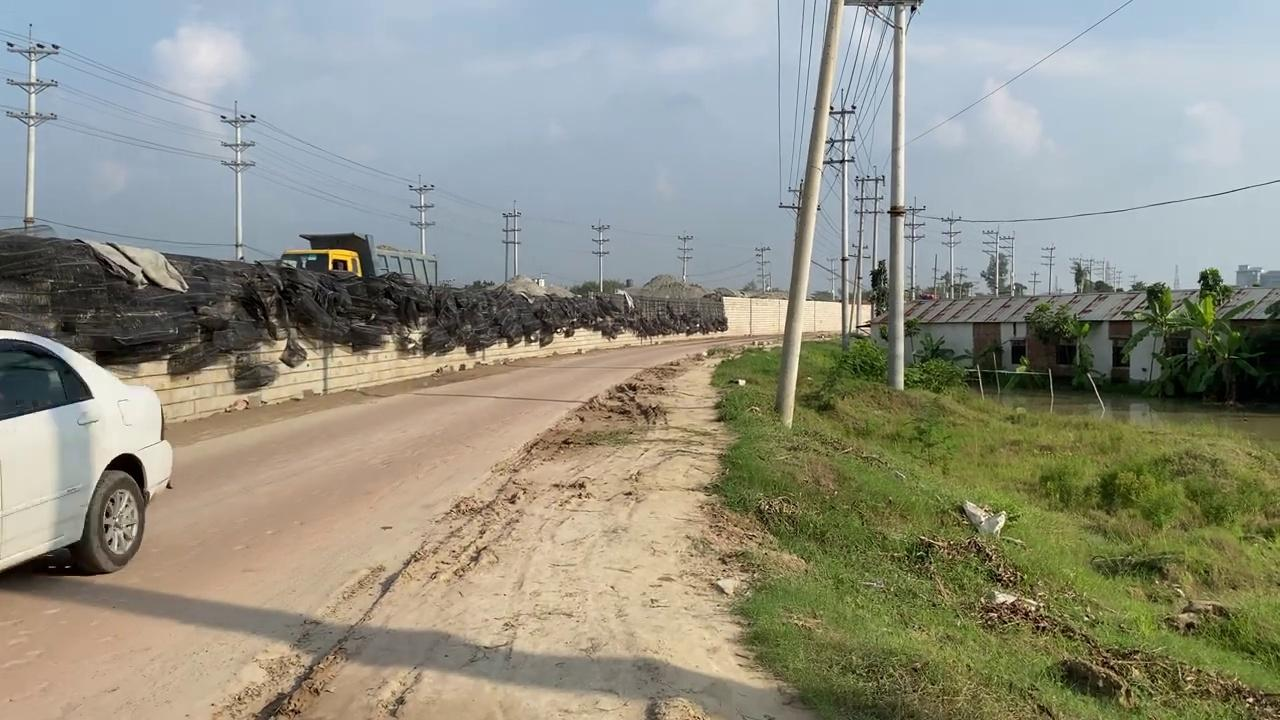Car: (0, 328, 173, 575)
Pole: (774, 0, 845, 428), (886, 3, 908, 390)
Rickshaw: (397, 327, 820, 720)
Tree: (279, 232, 438, 287)
Upstairs: (0, 230, 729, 371)
